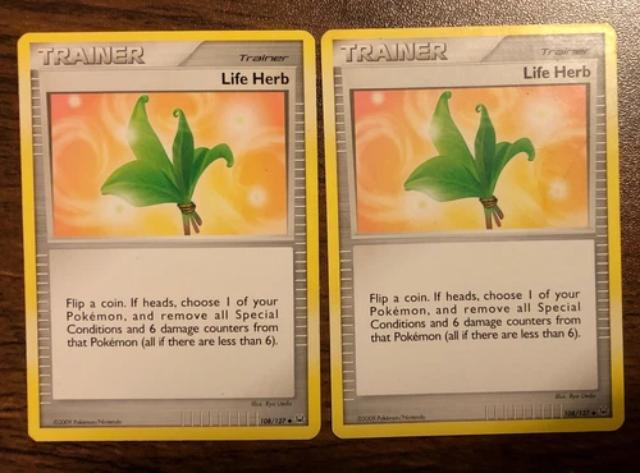Card: (315, 18, 631, 446), (12, 23, 327, 447)
Name: (516, 58, 594, 86), (214, 66, 294, 91)
